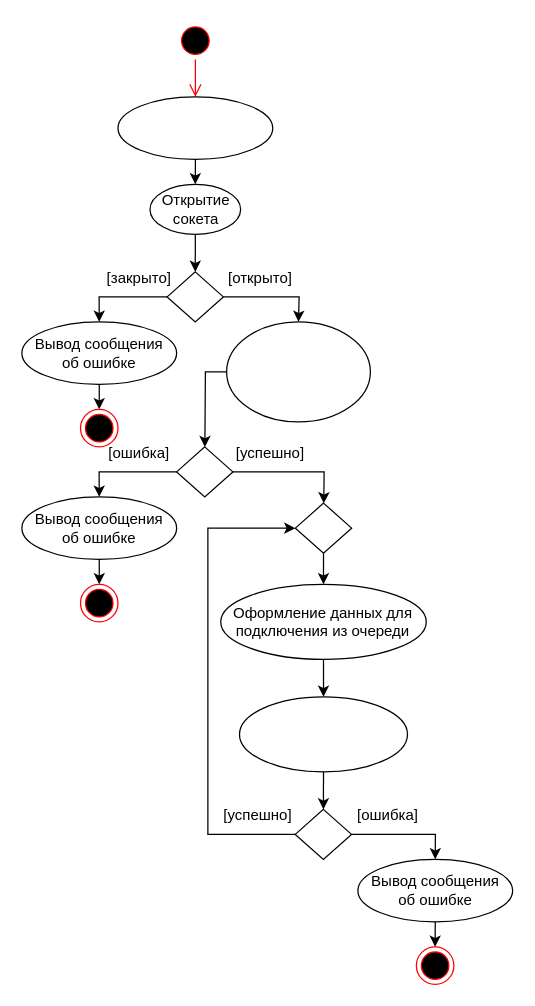
Some shapes in this 535 by 1006 pixel diagram are drawn without their labels. Each missing label, with the centre of its shape:
Связывание подключений к хосту по заданному порту: point 297,371
Создание нити, передача данных и запуск: point 323,734
Создание ресурса с семафором: point 195,127
